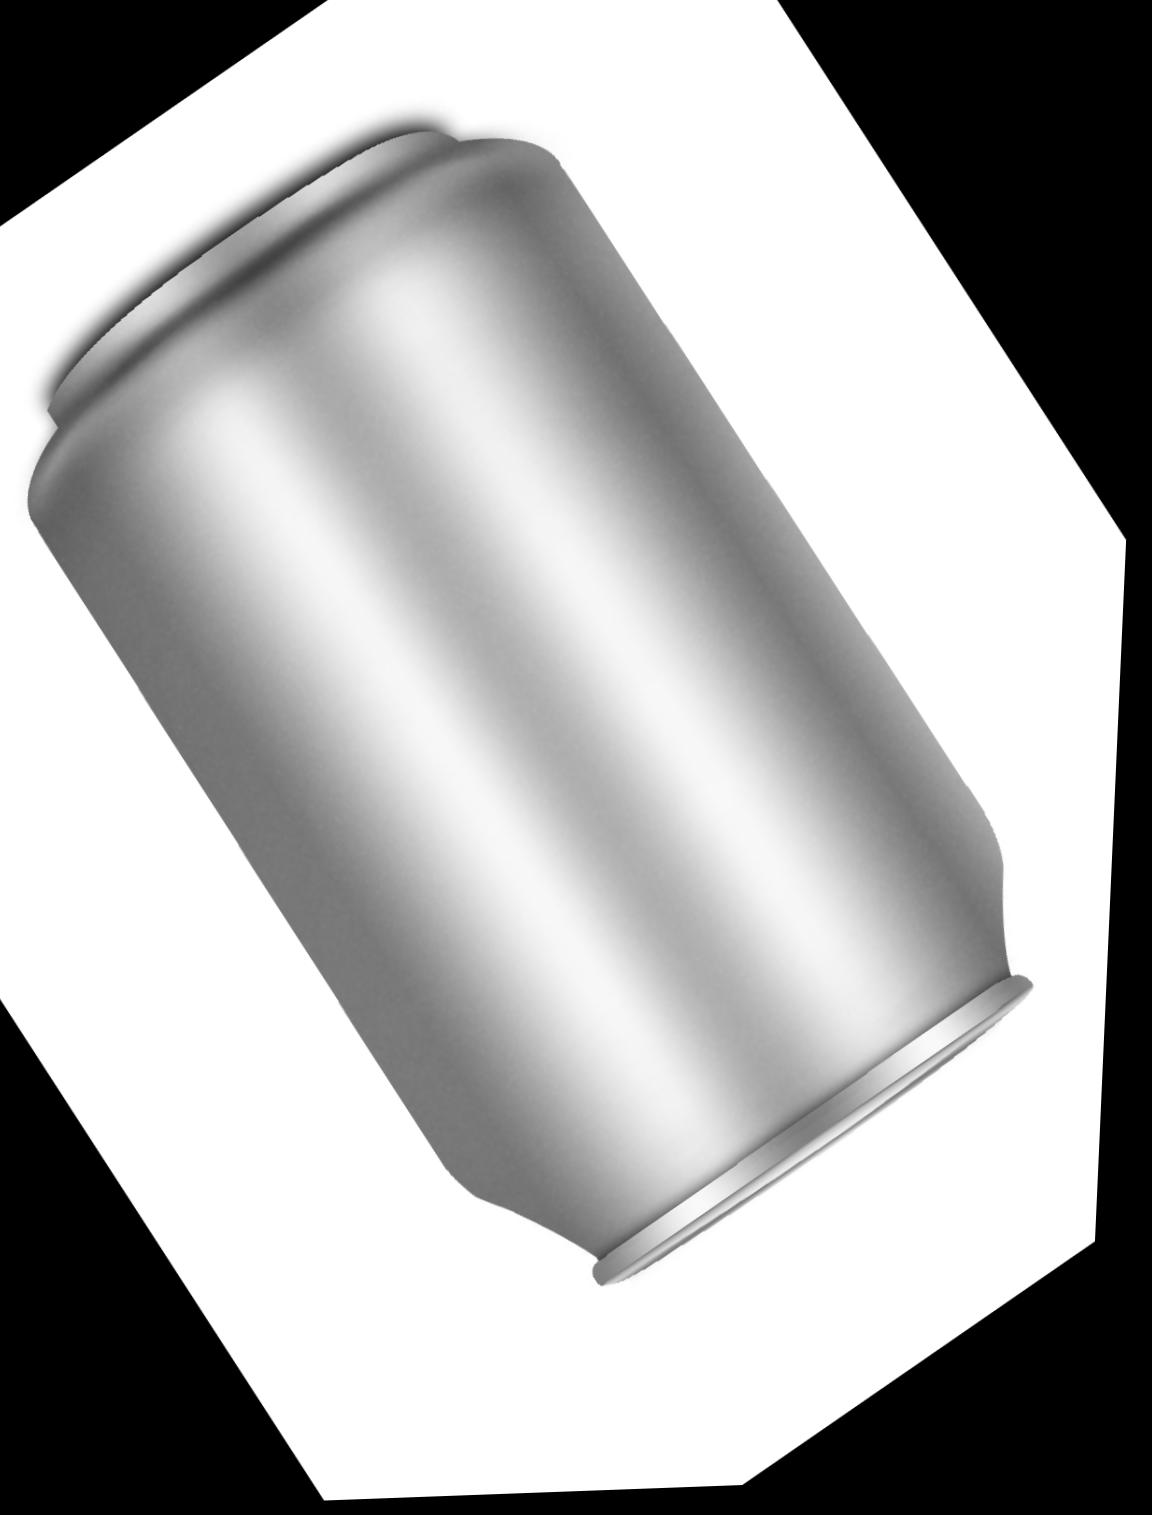metal: (29, 131, 1031, 1283)
